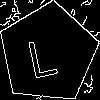L: (23, 28, 60, 79)
